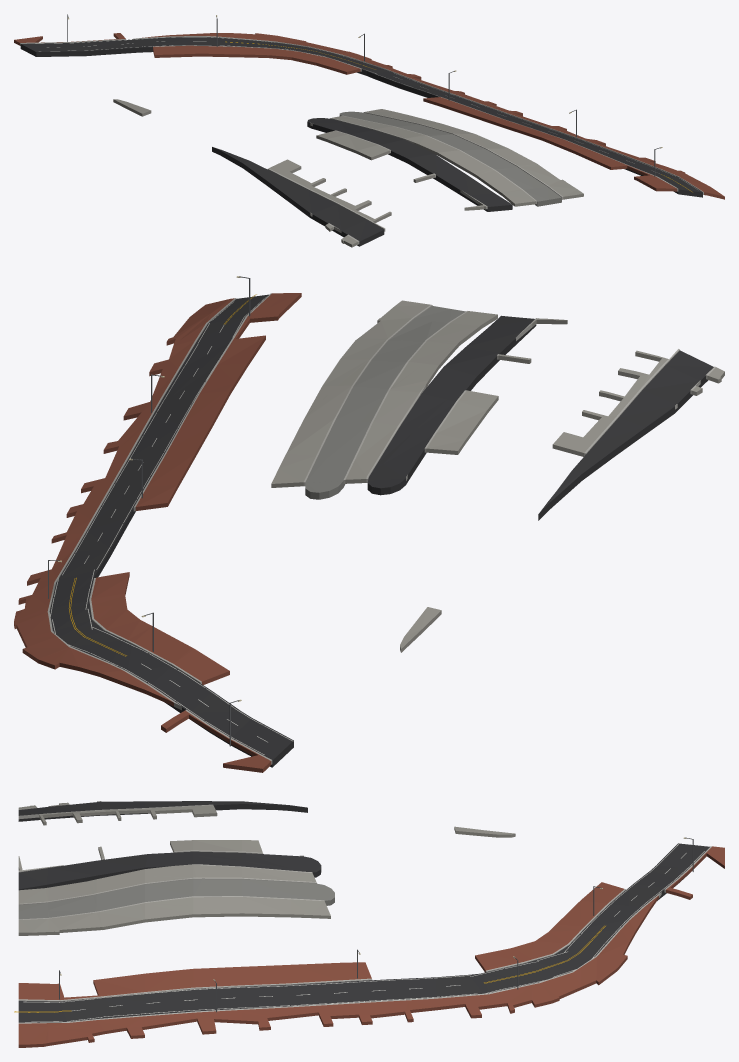
The picture shows the model from 3 angles, top to bottom: view 1: azimuth 30°, elevation 25°; view 2: azimuth 150°, elevation 25°; view 3: azimuth 270°, elevation 25°; orthographic projection. The views are drawn at different scales.
Size of the model in its own units: 94.71 by 18.05 by 147.
